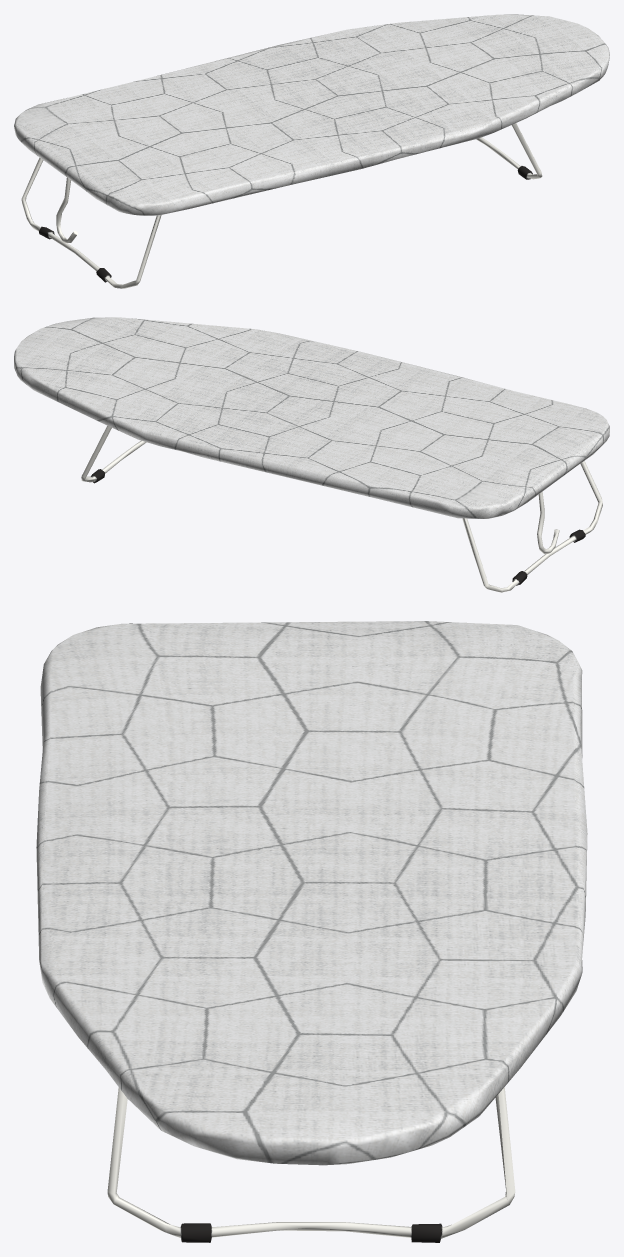
Rendered from jall_deska_do_prasowania_sto_20242890.glb.
The picture shows the model from 3 angles, top to bottom: view 1: azimuth 30°, elevation 25°; view 2: azimuth 150°, elevation 25°; view 3: azimuth 270°, elevation 25°; orthographic projection. The views are drawn at different scales.
Visible parts, largest first — view 1: jall_deska_do_prasowania_sto_20242890; view 2: jall_deska_do_prasowania_sto_20242890; view 3: jall_deska_do_prasowania_sto_20242890.
Boxes of the visible parts, left/top/right/bottom form: jall_deska_do_prasowania_sto_20242890: left=14, top=14, right=609, bottom=288; jall_deska_do_prasowania_sto_20242890: left=14, top=317, right=609, bottom=592; jall_deska_do_prasowania_sto_20242890: left=36, top=621, right=587, bottom=1242.
Bounding box in the file's own units: 0.7389 × 0.1336 × 0.3292.
Materials: 1 (1 with a texture image).
